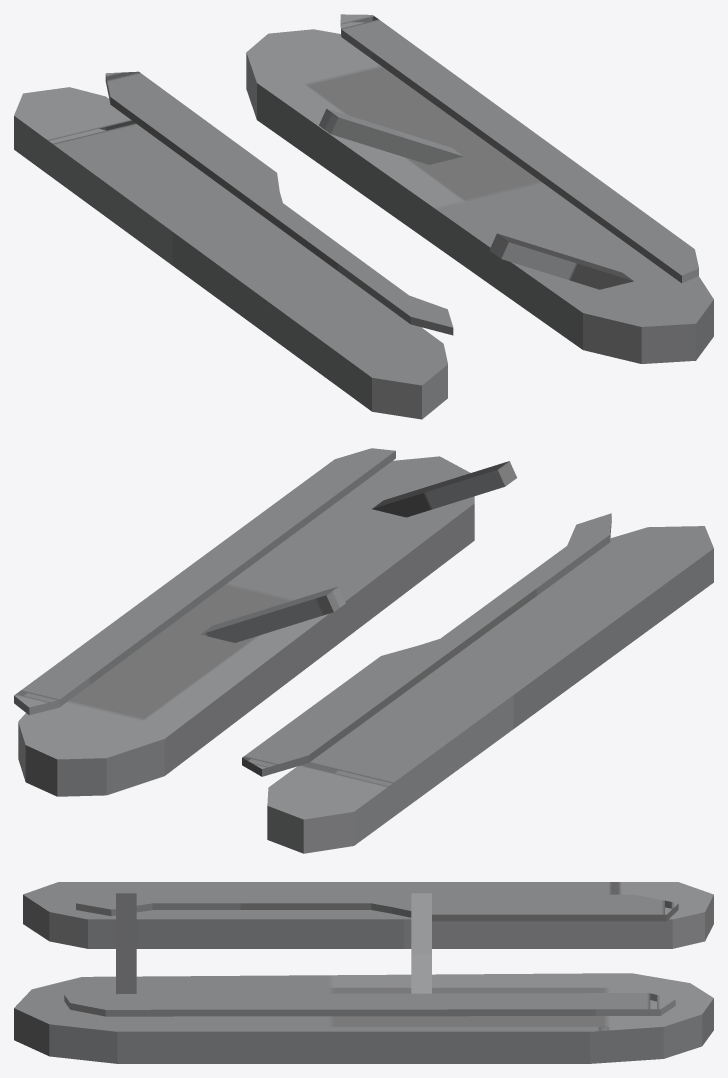
The picture shows the model from 3 angles, top to bottom: view 1: azimuth 30°, elevation 25°; view 2: azimuth 150°, elevation 25°; view 3: azimuth 270°, elevation 25°; orthographic projection. The views are drawn at different scales.
Size of the model in its own units: 0.936 by 0.2697 by 1.85.
